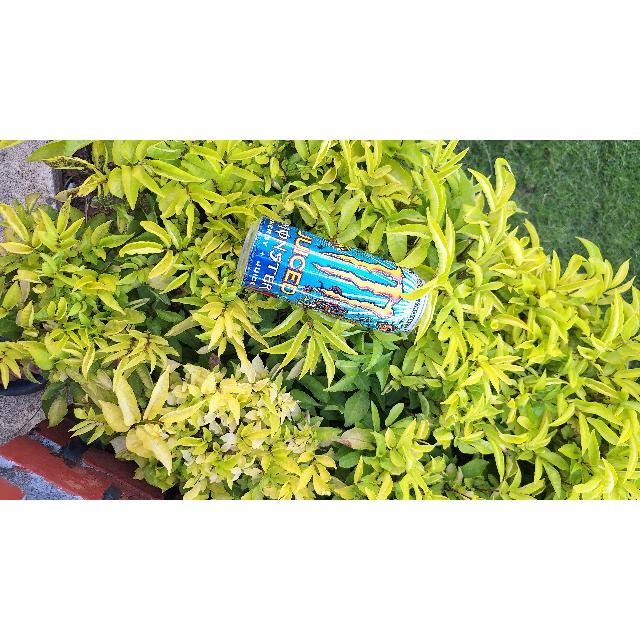Monster Aussie Lemonade: (238, 208, 427, 334)
